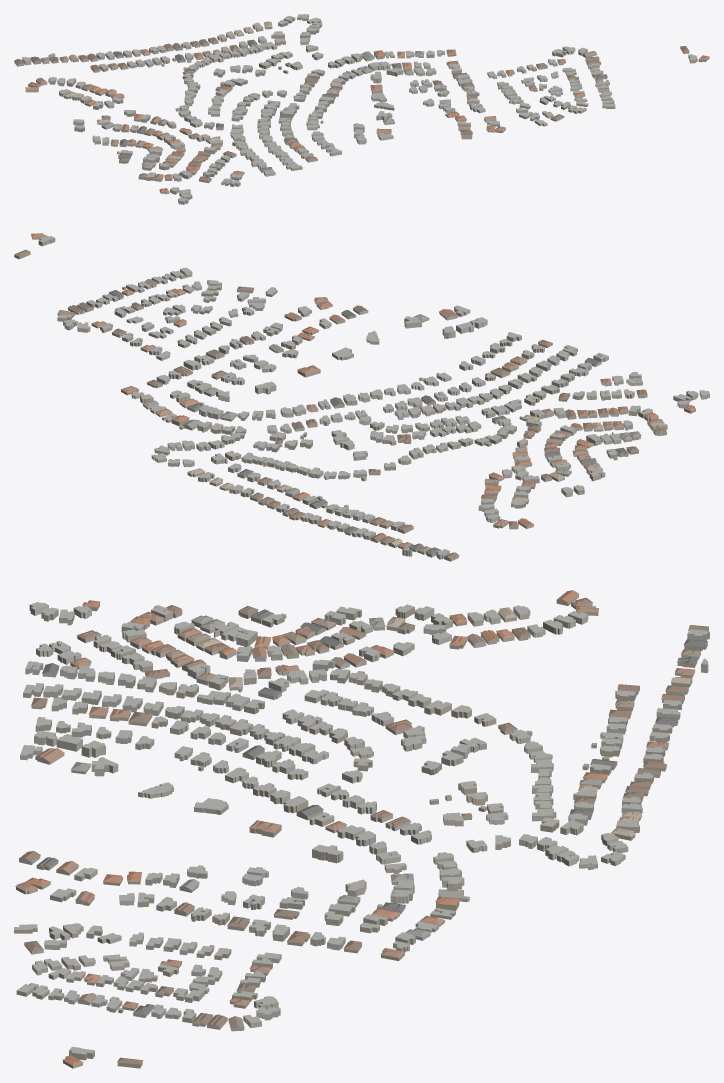
The model's file is buildings_r0_c7.glb.
The picture shows the model from 3 angles, top to bottom: view 1: azimuth 30°, elevation 25°; view 2: azimuth 150°, elevation 25°; view 3: azimuth 270°, elevation 25°; orthographic projection. The views are drawn at different scales.
Parts seen in each view (by area): view 1: buildings_r0_c7; view 2: buildings_r0_c7; view 3: buildings_r0_c7.
Part boxes in pixels (x1,y1,x2,y2): buildings_r0_c7: [14, 14, 709, 204]; buildings_r0_c7: [14, 233, 709, 561]; buildings_r0_c7: [14, 590, 709, 1068].
Size of the model in its own units: 1147 by 71.99 by 706.
